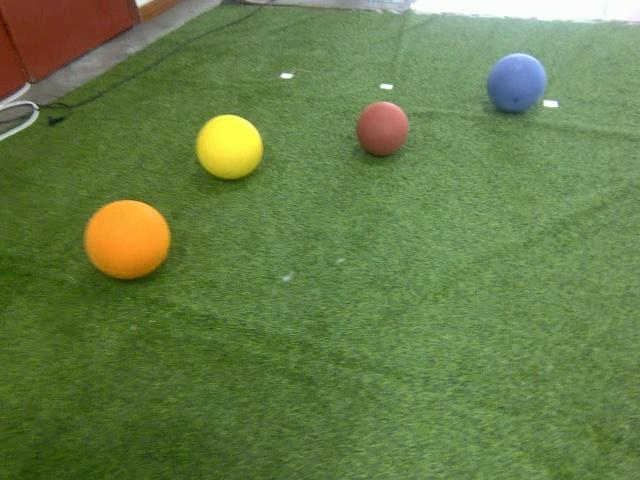blue_ball: (489, 54, 546, 114)
orange_ball: (84, 199, 172, 282)
red_ball: (355, 102, 409, 156)
yellow_ball: (194, 115, 264, 182)
